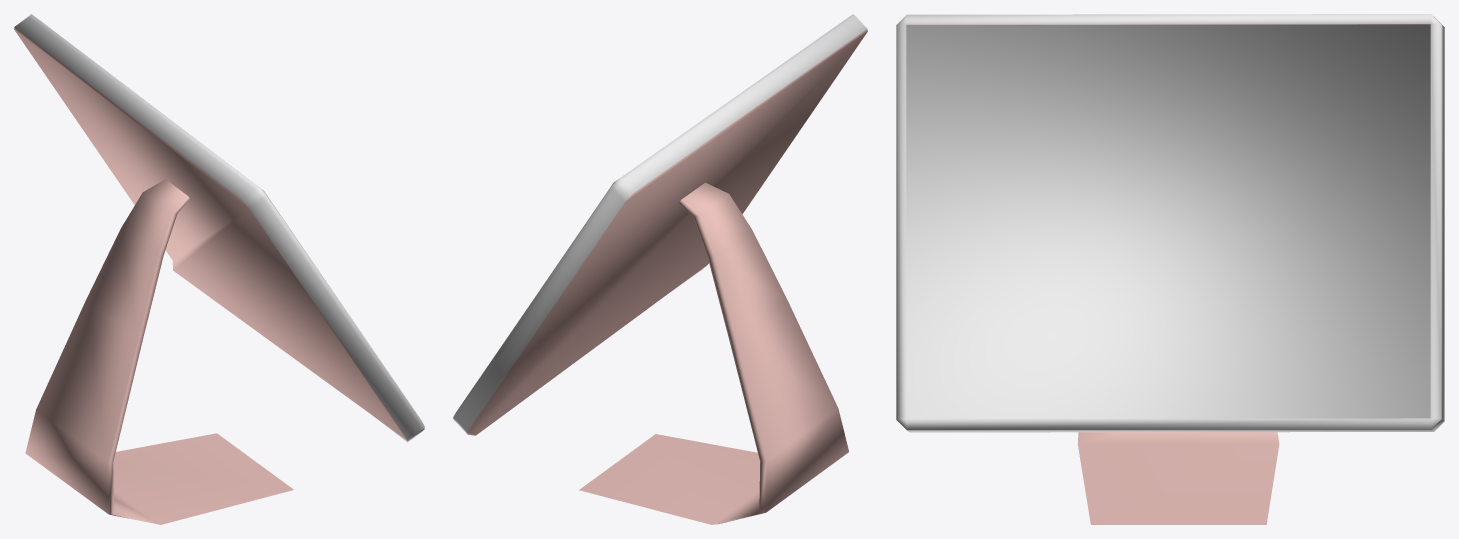
The model's file is Computer.fbx.
3 renders of one model, left to right at view 1: azimuth 30°, elevation 25°; view 2: azimuth 150°, elevation 25°; view 3: azimuth 270°, elevation 25°, orthographic. The views are drawn at different scales.
Parts seen in each view (by area): view 1: Cube; view 2: Cube; view 3: Cube.
Part boxes in pixels (x1,y1,x2,y2): Cube: (14,14,424,524); Cube: (453,14,867,524); Cube: (896,14,1444,524).
Bounding box in the file's own units: 697 × 1079 × 1197.
